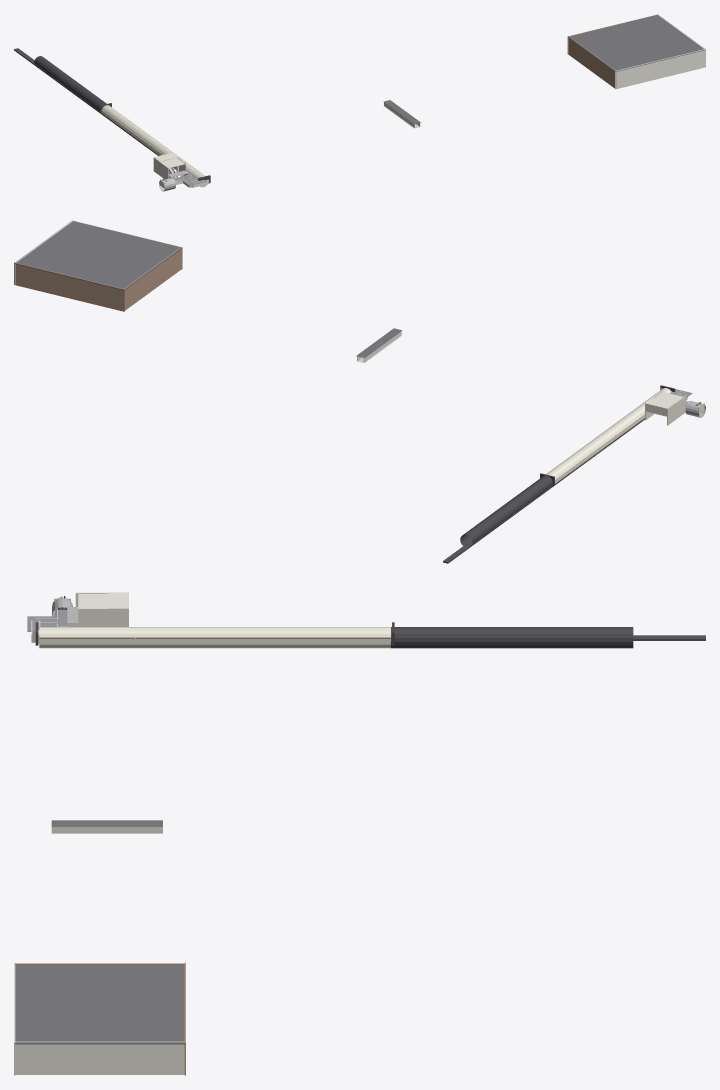
The picture shows the model from 3 angles, top to bottom: view 1: azimuth 30°, elevation 25°; view 2: azimuth 150°, elevation 25°; view 3: azimuth 270°, elevation 25°; orthographic projection. The views are drawn at different scales.
Parts seen in each view (by area): view 1: s02_roof, s02_wall_s, s04_vault, s04_vaultn, s02_wall_w; view 2: s02_roof, s02_wall_n, s04_vaultn, s04_vault, s02_wall_w; view 3: s02_roof, s04_vault, s02_wall_e, s04_vaultn, s04_wall_e, s01_wall_e, s03_wall_e, s01_ceil.
Boxes of the visible parts, bbox=[...] form: s02_roof: bbox=[568, 15, 705, 71]; s02_wall_s: bbox=[615, 49, 705, 89]; s04_vault: bbox=[101, 105, 207, 187]; s04_vaultn: bbox=[34, 56, 107, 112]; s02_wall_w: bbox=[568, 36, 616, 88]; s02_roof: bbox=[14, 221, 182, 290]; s02_wall_n: bbox=[14, 262, 124, 311]; s04_vaultn: bbox=[460, 475, 552, 545]; s04_vault: bbox=[546, 388, 671, 482]; s02_wall_w: bbox=[123, 247, 181, 311]; s02_roof: bbox=[14, 964, 185, 1044]; s04_vault: bbox=[39, 627, 390, 648]; s02_wall_e: bbox=[15, 1041, 184, 1074]; s04_vaultn: bbox=[391, 627, 633, 648]; s04_wall_e: bbox=[39, 638, 390, 644]; s01_wall_e: bbox=[51, 826, 162, 833]; s03_wall_e: bbox=[78, 608, 128, 626]; s01_ceil: bbox=[51, 820, 162, 826].
Bounding box in the file's own units: 456 × 18.5 × 286.
